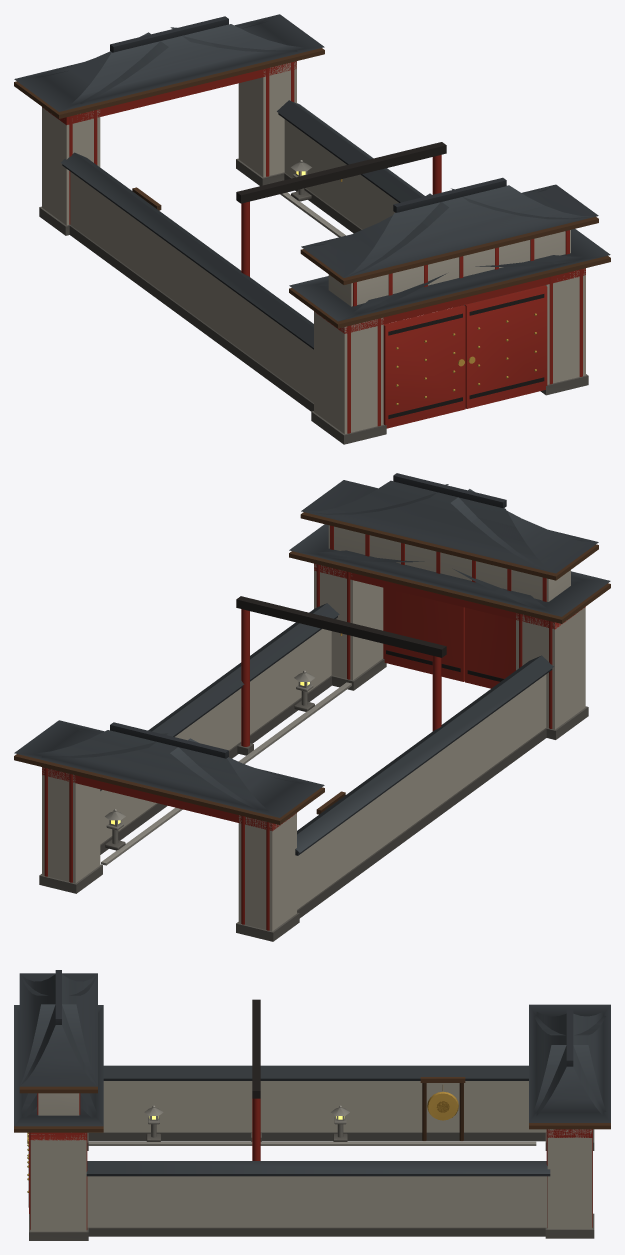
File: prop.bamboo_temple.glb
The picture shows the model from 3 angles, top to bottom: view 1: azimuth 30°, elevation 25°; view 2: azimuth 150°, elevation 25°; view 3: azimuth 270°, elevation 25°; orthographic projection. The views are drawn at different scales.
Parts seen in each view (by area): view 1: bamboo_temple, door_l, door_r; view 2: bamboo_temple, door_l, door_r; view 3: bamboo_temple, gong.
Boxes of the visible parts, x1,y1,x2,y2 form: bamboo_temple: [14, 14, 610, 444]; door_l: [465, 285, 547, 408]; door_r: [383, 305, 465, 428]; bamboo_temple: [14, 473, 610, 941]; door_l: [383, 587, 464, 681]; door_r: [465, 607, 515, 688]; bamboo_temple: [14, 970, 610, 1240]; gong: [427, 1084, 458, 1120].
Bounding box in the file's own units: 15.4 × 11.35 × 32.
